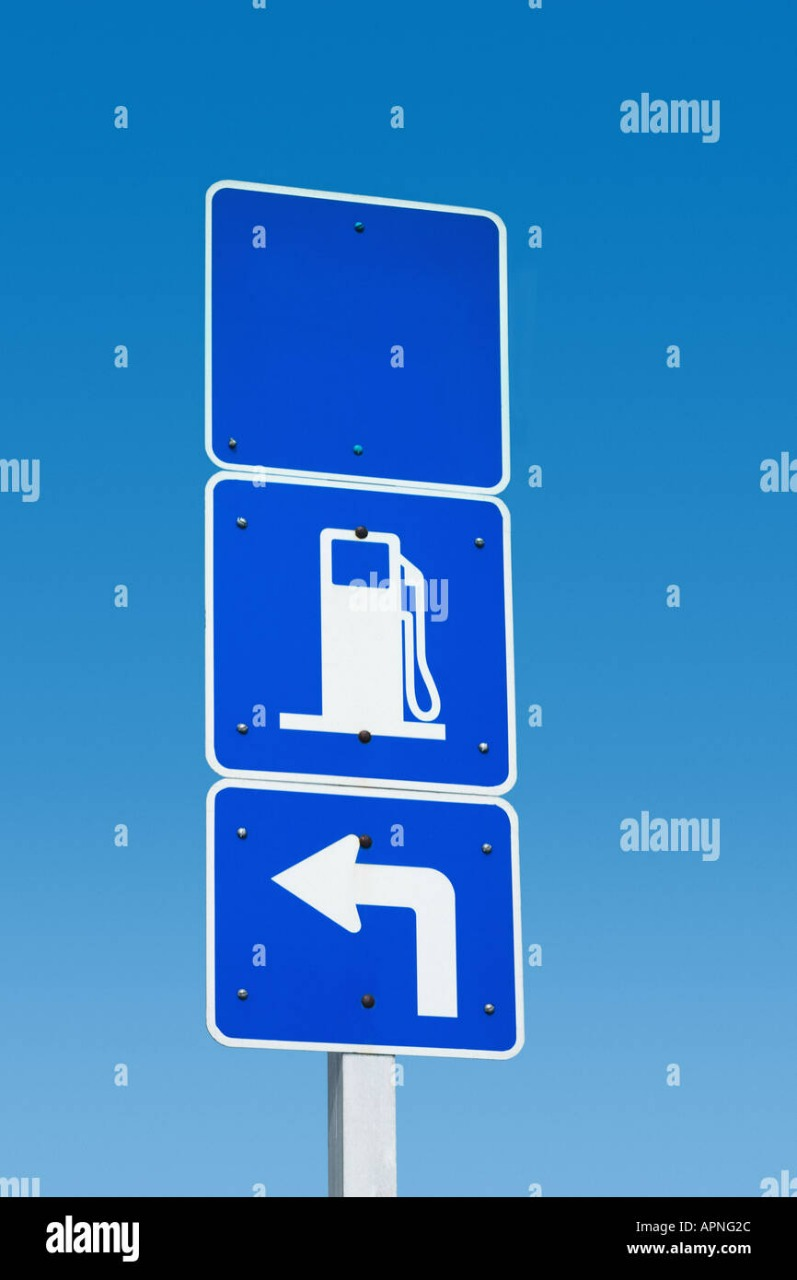fuel-station: (217, 486, 500, 776)
left turn: (223, 789, 523, 1042)
